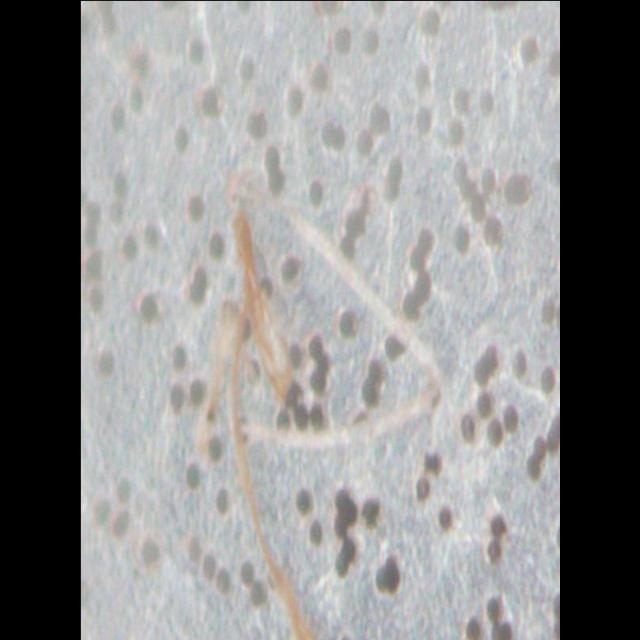Fibre: (207, 191, 445, 639)
